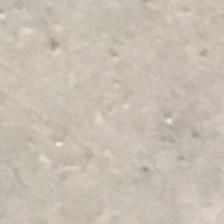Non_Crack: (29, 39, 224, 208)
